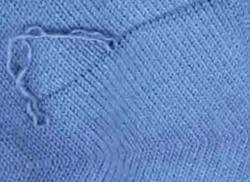snag: (79, 31, 124, 57)
